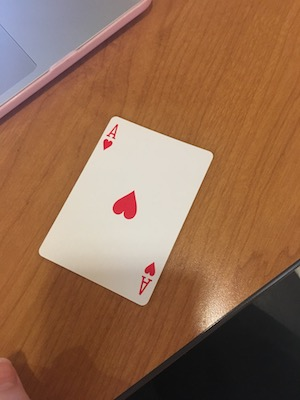AceOfHearts: (34, 110, 216, 311)
